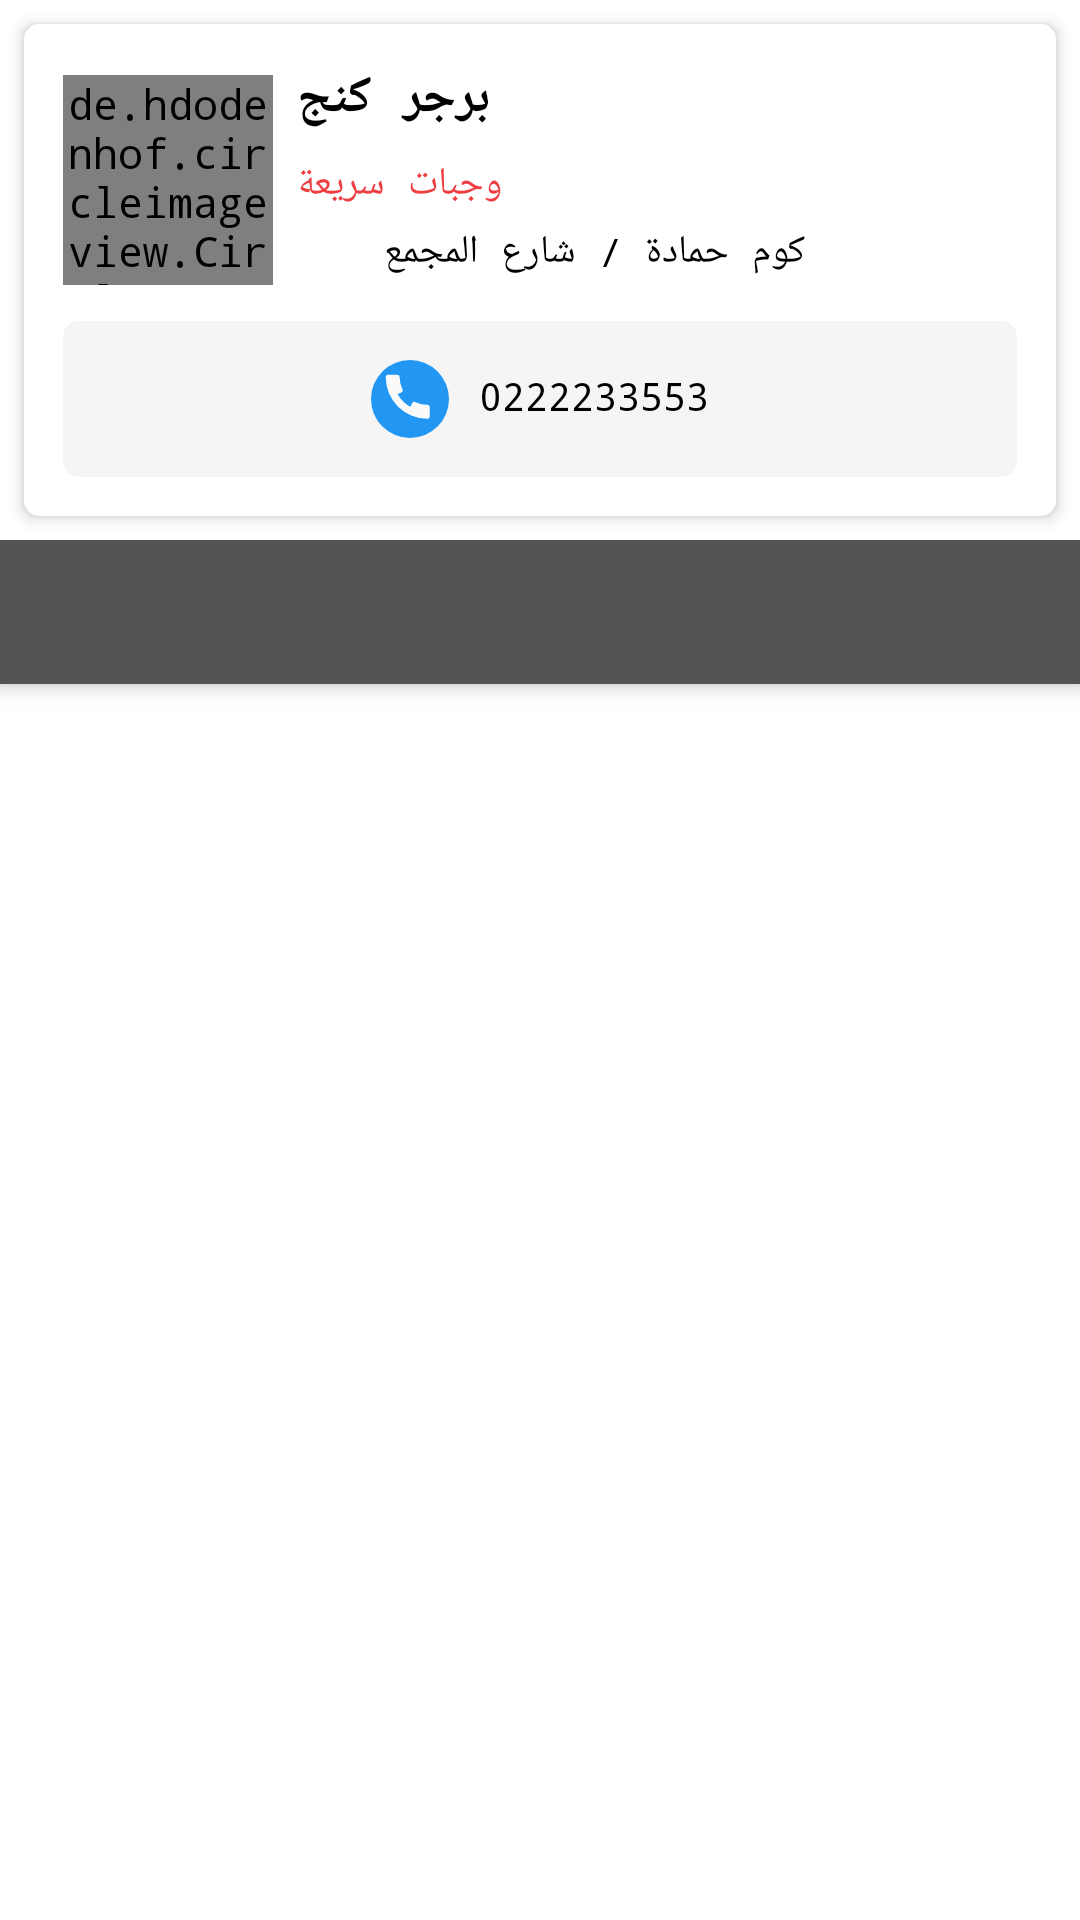

Icon click points for this 1080*1920 phone screenshot, format [x,y]:
call: [410,399]
